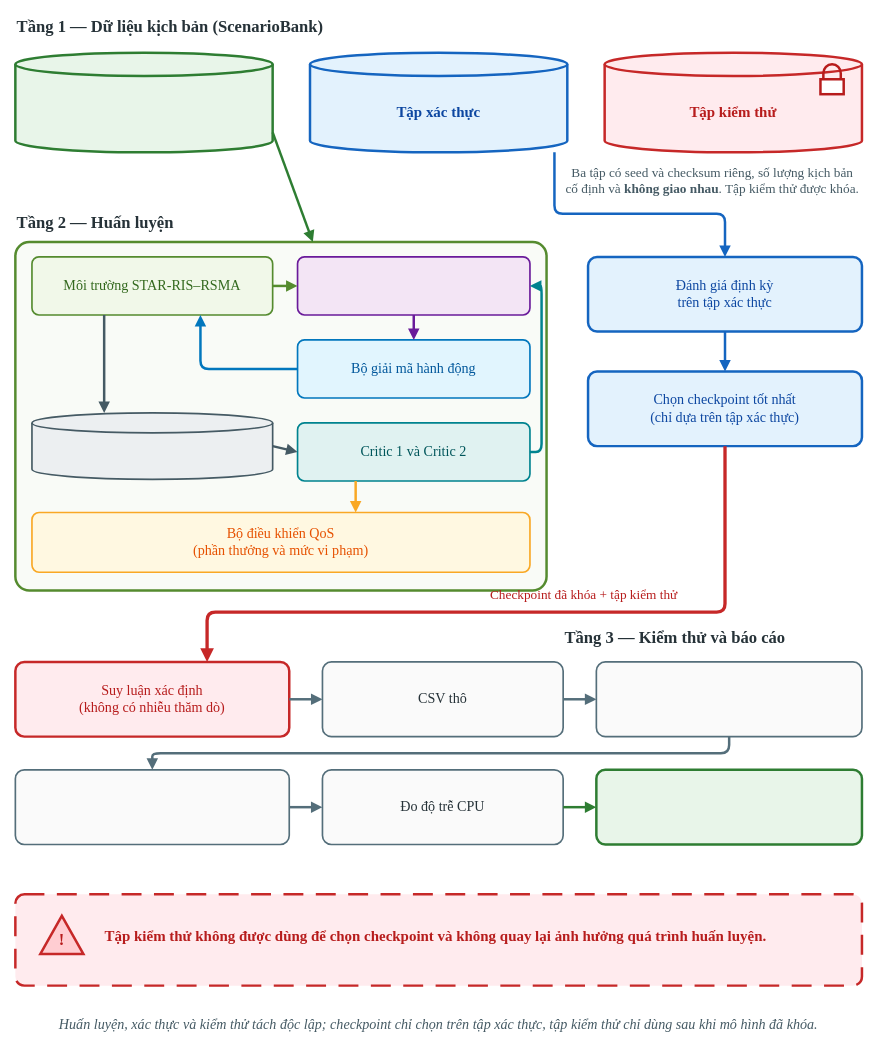
Image size: 877x1057. Some labels were removed from this diagram. Here are the shapes that lost their labels. From the top down, the centre of each, then its label:
At (x=143, y=102): "Tập huấn luyện".
At (x=413, y=285): "Mạng Actor".
At (x=152, y=446): "Replay Buffer".
At (x=728, y=699): "Thống kê và kiểm định".
At (x=152, y=807): "Biểu đồ kết quả".
At (x=729, y=806): "Báo cáo".
